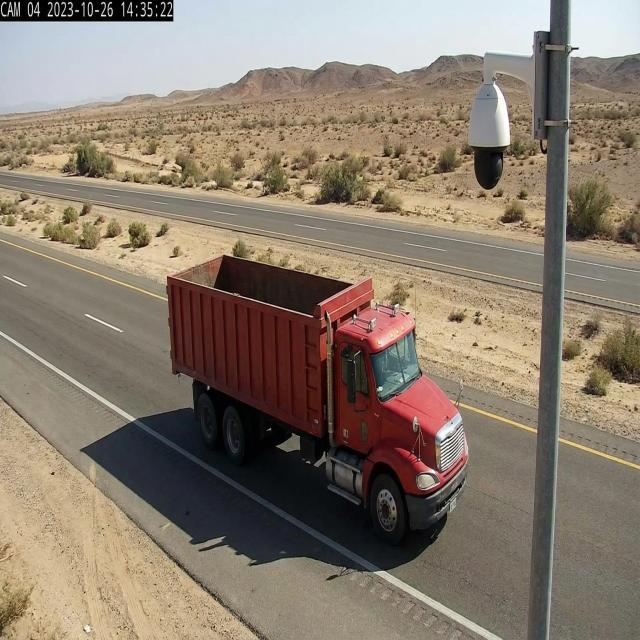trailer: (166, 255, 375, 318)
truck: (164, 250, 469, 528)
